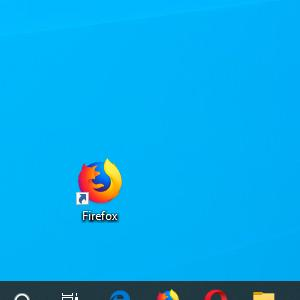firefox: (76, 157, 123, 205), (158, 288, 179, 300)
